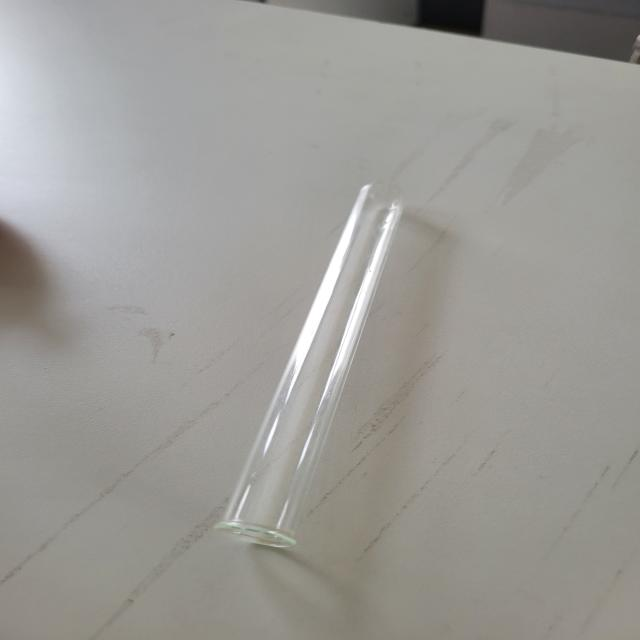Test_Tube: (182, 150, 460, 576)
